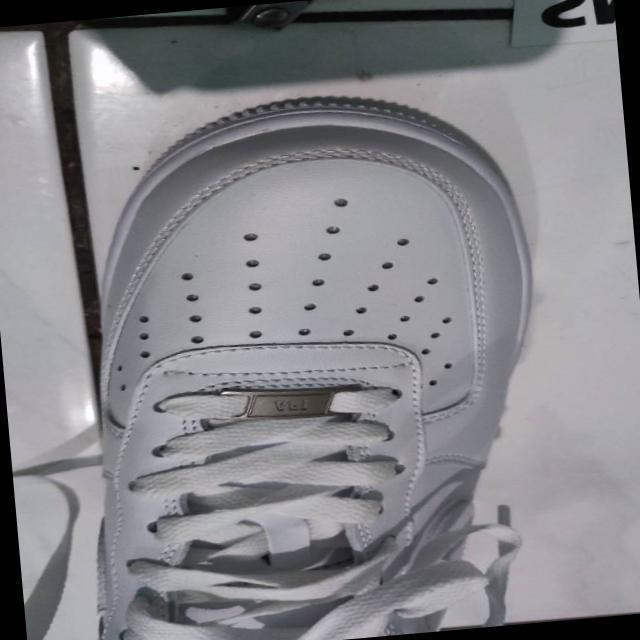nike fake air force: (53, 79, 569, 640)
